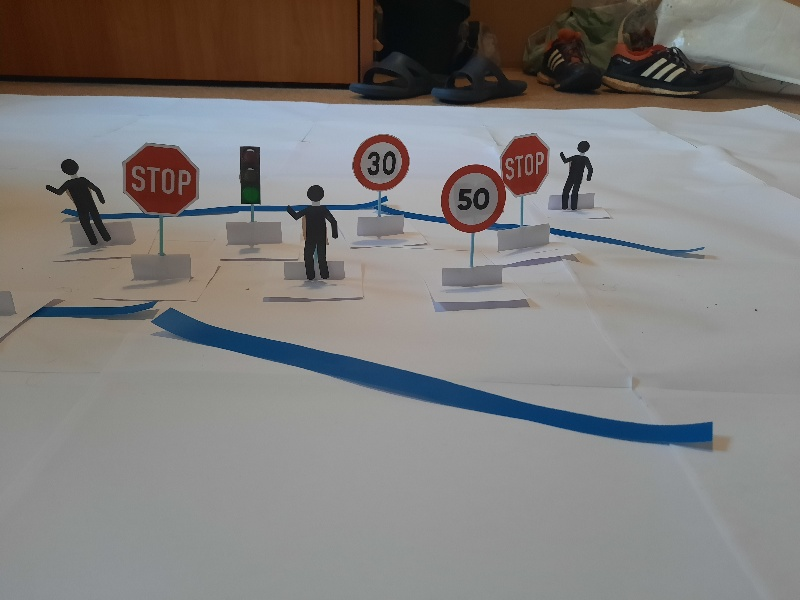Green: (236, 141, 266, 208)
Limit 30: (352, 133, 411, 192)
Limit 50: (440, 162, 507, 233)
Person: (44, 154, 114, 249), (286, 181, 339, 284), (559, 143, 594, 213)
Stop: (119, 140, 201, 217), (498, 133, 548, 195)
